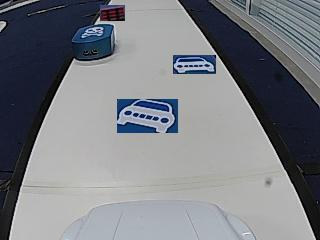danger: (80, 26, 103, 37)
